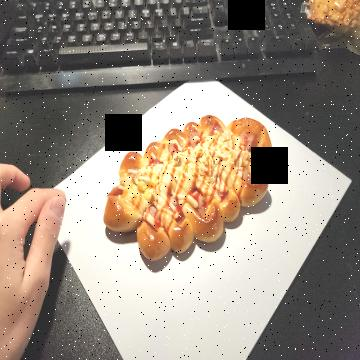pizza_bread: (101, 115, 273, 264)
